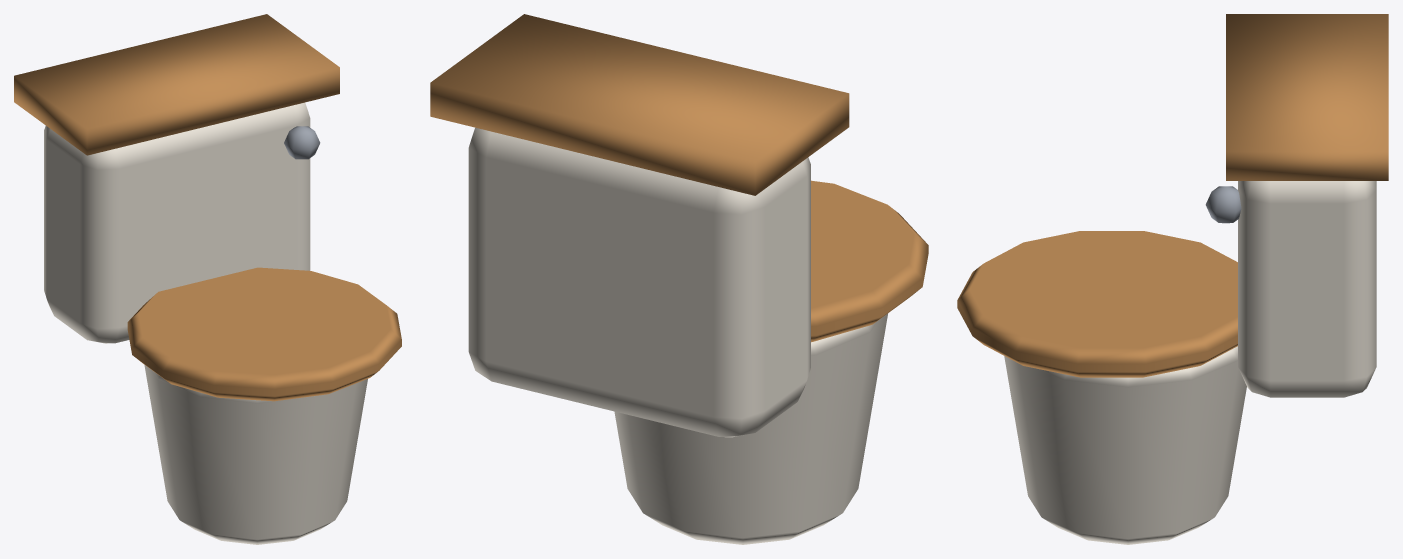
The model's file is toilet.glb.
The picture shows the model from 3 angles, left to right: view 1: azimuth 30°, elevation 25°; view 2: azimuth 150°, elevation 25°; view 3: azimuth 270°, elevation 25°; orthographic projection. The views are drawn at different scales.
Visible parts, largest first — view 1: toilet; view 2: toilet; view 3: toilet.
Part boxes in pixels (x1,y1,x2,y2): toilet: (14,14,401,544); toilet: (430,14,928,544); toilet: (957,14,1388,544).
Bounding box in the file's own units: 0.4 × 0.58 × 0.53.
